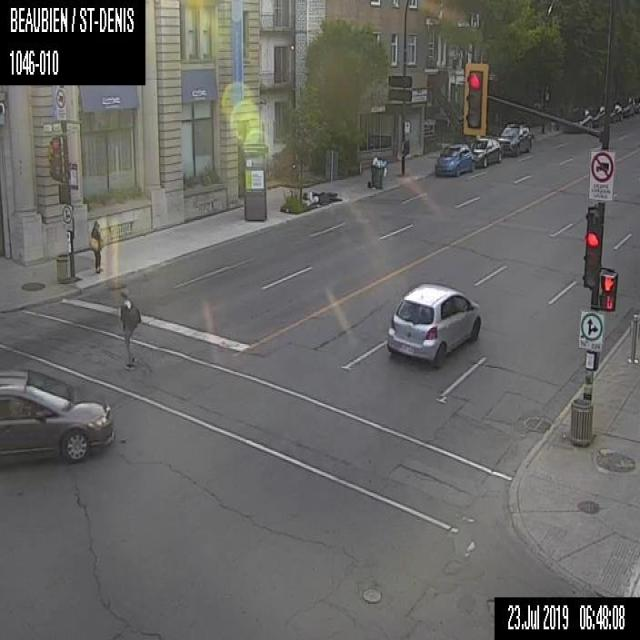pedestrian: (118, 287, 139, 368), (85, 220, 102, 272)
vehicle: (0, 366, 115, 464), (384, 280, 482, 363), (434, 141, 474, 175), (494, 122, 532, 156), (471, 135, 501, 168), (562, 105, 592, 134), (616, 95, 634, 116), (606, 101, 623, 123), (588, 105, 605, 126)
